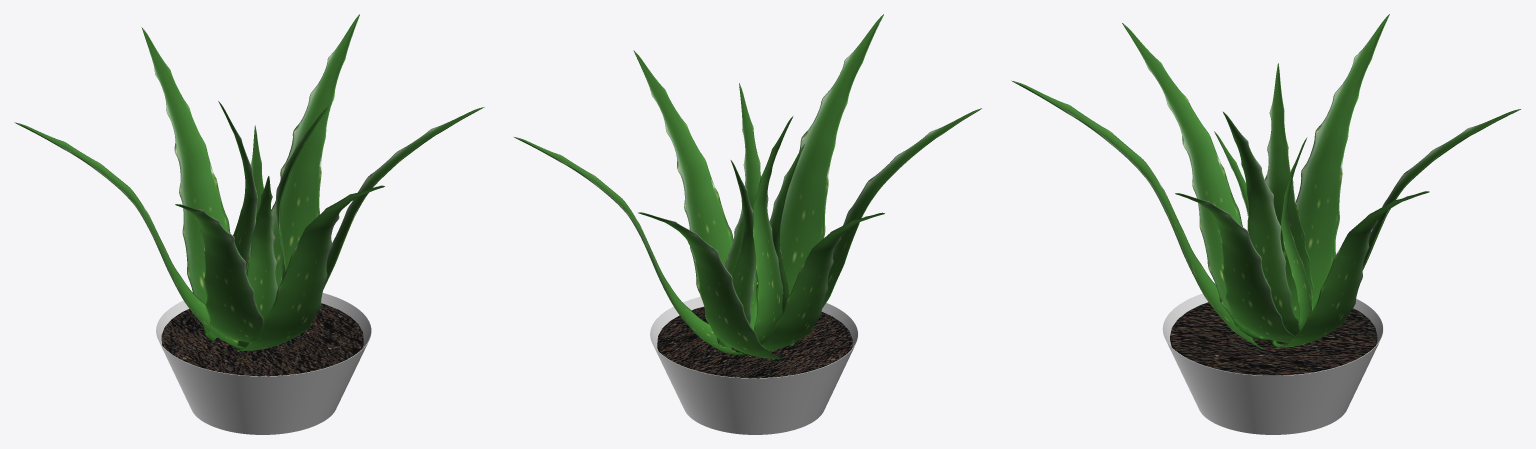
Rendered from sabila.glb.
3 views of the same model, side by side, from view 1: azimuth 30°, elevation 25°; view 2: azimuth 150°, elevation 25°; view 3: azimuth 270°, elevation 25° (orthographic). The views are drawn at different scales.
Parts seen in each view (by area): view 1: Maceta, Tierra, Plane, Plane.003, Plane.009, Plane.002, Plane.008, Plane.001, Plane.005, Plane.007, Plane.004, Plane.006; view 2: Maceta, Plane.009, Tierra, Plane.005, Plane, Plane.001, Plane.007, Plane.002, Plane.003, Plane.004, Plane.006, Plane.008; view 3: Maceta, Tierra, Plane.001, Plane.002, Plane.005, Plane.004, Plane.003, Plane.007, Plane.009, Plane.006, Plane.
Part boxes in pixels (left/top/right/bottom): Maceta: left=156, top=293, right=371, bottom=434; Tierra: left=161, top=303, right=363, bottom=376; Plane: left=141, top=27, right=230, bottom=341; Plane.003: left=271, top=14, right=359, bottom=286; Plane.009: left=235, top=185, right=384, bottom=350; Plane.002: left=175, top=204, right=263, bottom=342; Plane.008: left=237, top=176, right=278, bottom=347; Plane.001: left=14, top=122, right=258, bottom=350; Plane.005: left=323, top=107, right=484, bottom=289; Plane.007: left=218, top=101, right=257, bottom=272; Plane.004: left=276, top=107, right=328, bottom=281; Plane.006: left=246, top=125, right=263, bottom=274; Maceta: left=650, top=296, right=858, bottom=434; Plane.009: left=756, top=14, right=883, bottom=345; Tierra: left=657, top=306, right=852, bottom=378; Plane.005: left=633, top=50, right=733, bottom=347; Plane: left=638, top=212, right=786, bottom=358; Plane.001: left=761, top=212, right=884, bottom=351; Plane.007: left=742, top=116, right=793, bottom=353; Plane.002: left=822, top=108, right=981, bottom=308; Plane.003: left=514, top=137, right=747, bottom=355; Plane.004: left=719, top=83, right=760, bottom=346; Plane.006: left=730, top=160, right=756, bottom=356; Plane.008: left=769, top=144, right=804, bottom=313; Maceta: left=1162, top=293, right=1383, bottom=434; Tierra: left=1170, top=302, right=1377, bottom=375; Plane.001: left=1296, top=14, right=1389, bottom=308; Plane.002: left=1122, top=23, right=1271, bottom=340; Plane.005: left=1175, top=193, right=1294, bottom=342; Plane.004: left=1222, top=111, right=1300, bottom=342; Plane.003: left=1271, top=191, right=1429, bottom=347; Plane.007: left=1265, top=63, right=1314, bottom=320; Plane.009: left=1011, top=80, right=1264, bottom=349; Plane.006: left=1281, top=137, right=1311, bottom=329; Plane: left=1362, top=109, right=1520, bottom=270.
Size of the model in its own units: 5.05 by 4.12 by 5.96.
12 materials, 11 textured.
